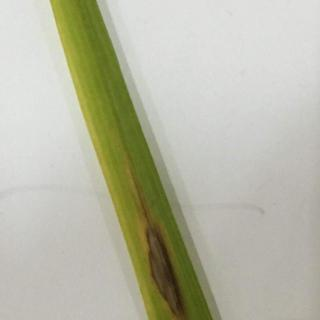Blast: (122, 190, 214, 320)
